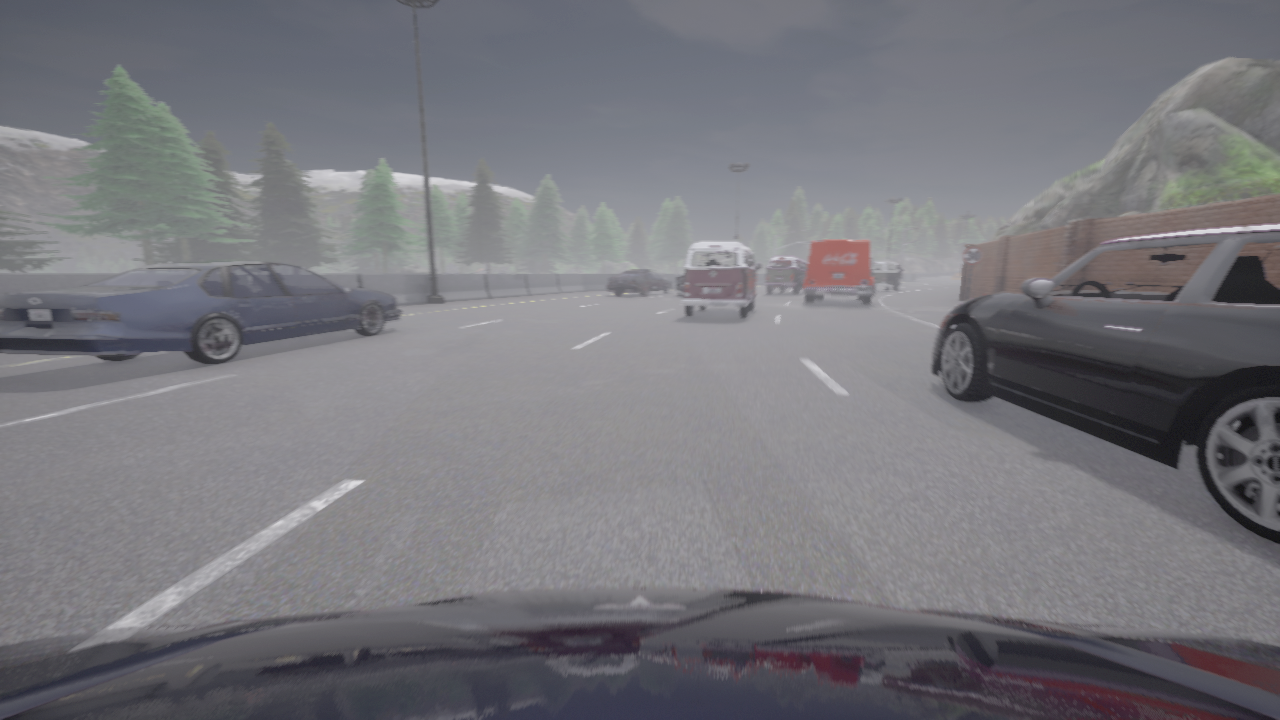cyclist: (0, 588, 1279, 719), (932, 223, 1279, 544), (0, 260, 401, 364), (681, 240, 761, 318), (804, 239, 874, 303), (607, 270, 673, 295), (765, 256, 808, 293), (871, 261, 902, 291), (675, 272, 683, 296)
